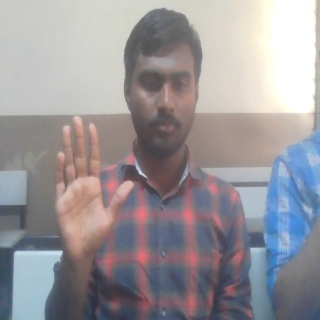Face: (121, 7, 204, 165)
Hello: (49, 113, 135, 263)
